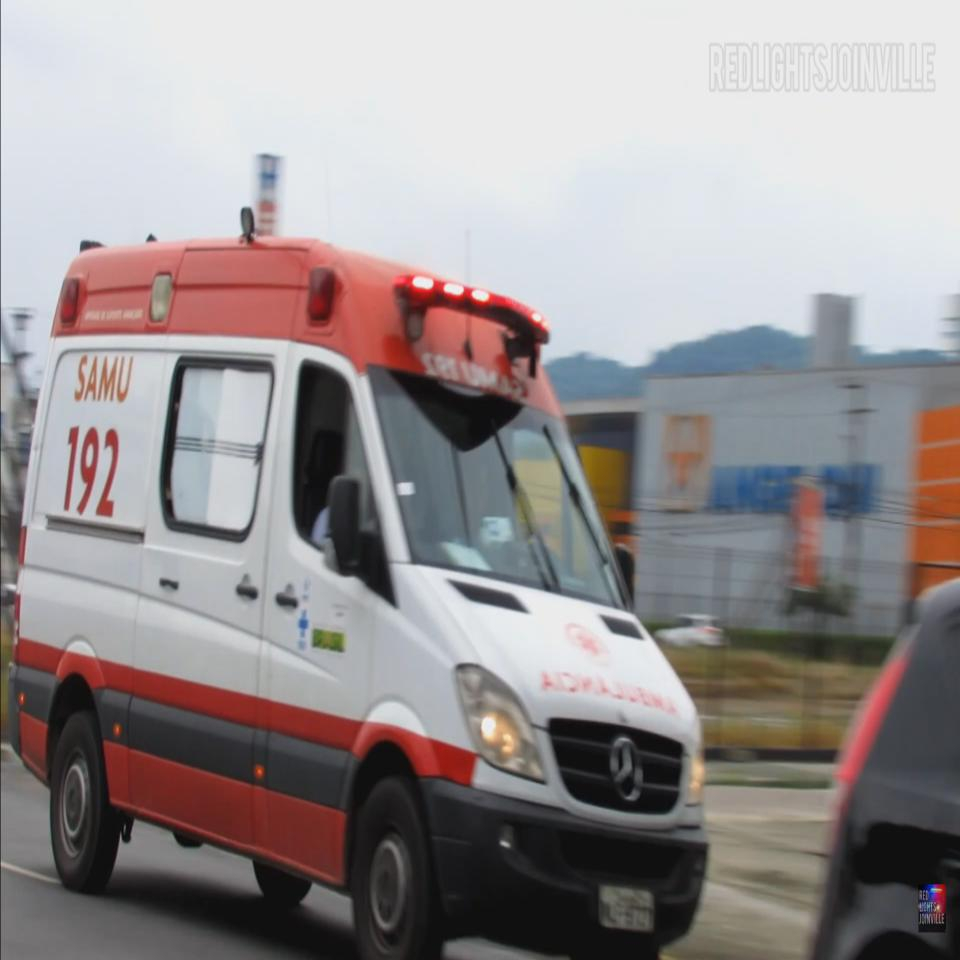bombeiro: (0, 203, 711, 960)
